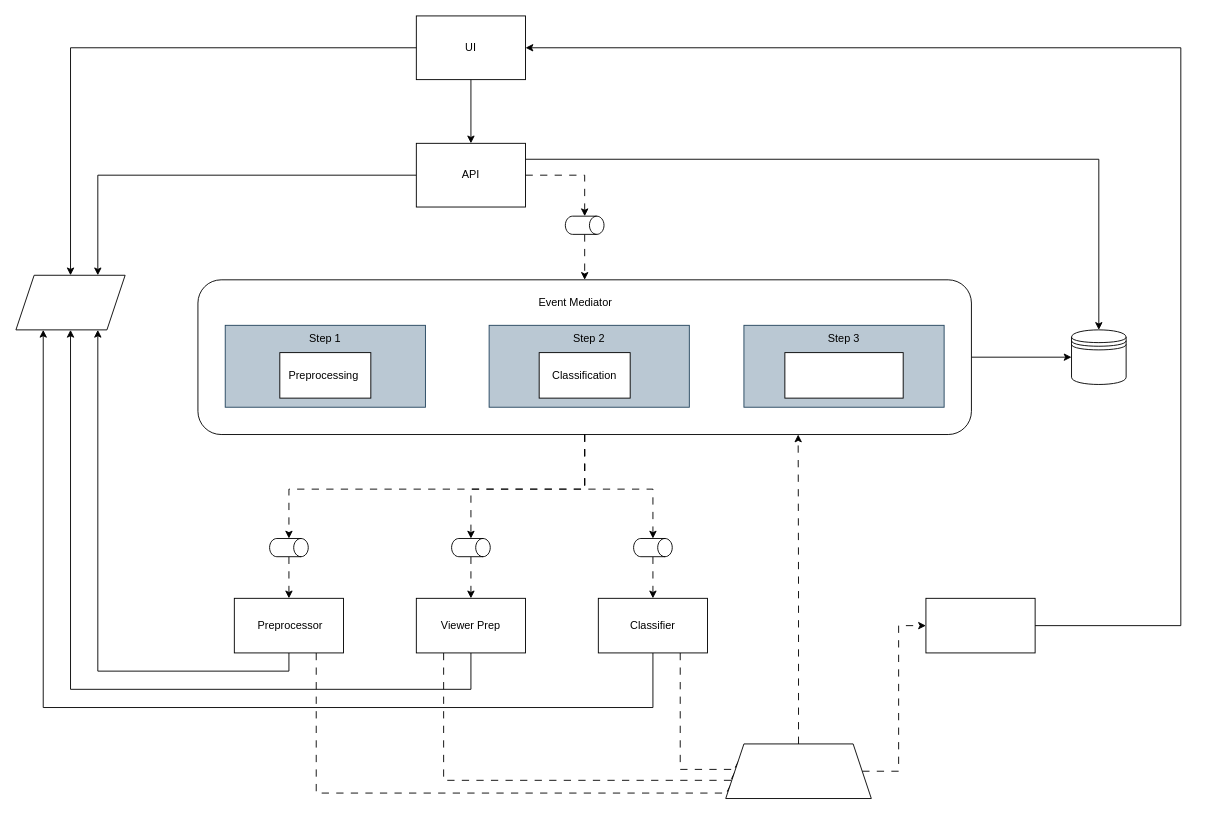
Image size: 1205x816. Some labels were removed from this diagram. The shapes that lost their labels are listed below. From the top down, each one's centre as x and y in pixels, then its label:
At (x=70, y=302): "Blob Storage".
At (x=843, y=375): "ViewerPreparation".
At (x=980, y=625): "Notification Service".
At (x=798, y=771): "Workflow Events Topic".
